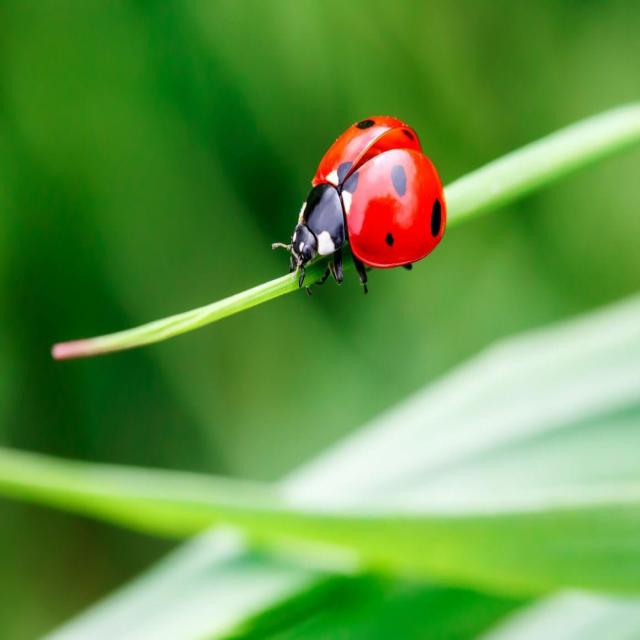ladybug: (288, 116, 446, 292)
